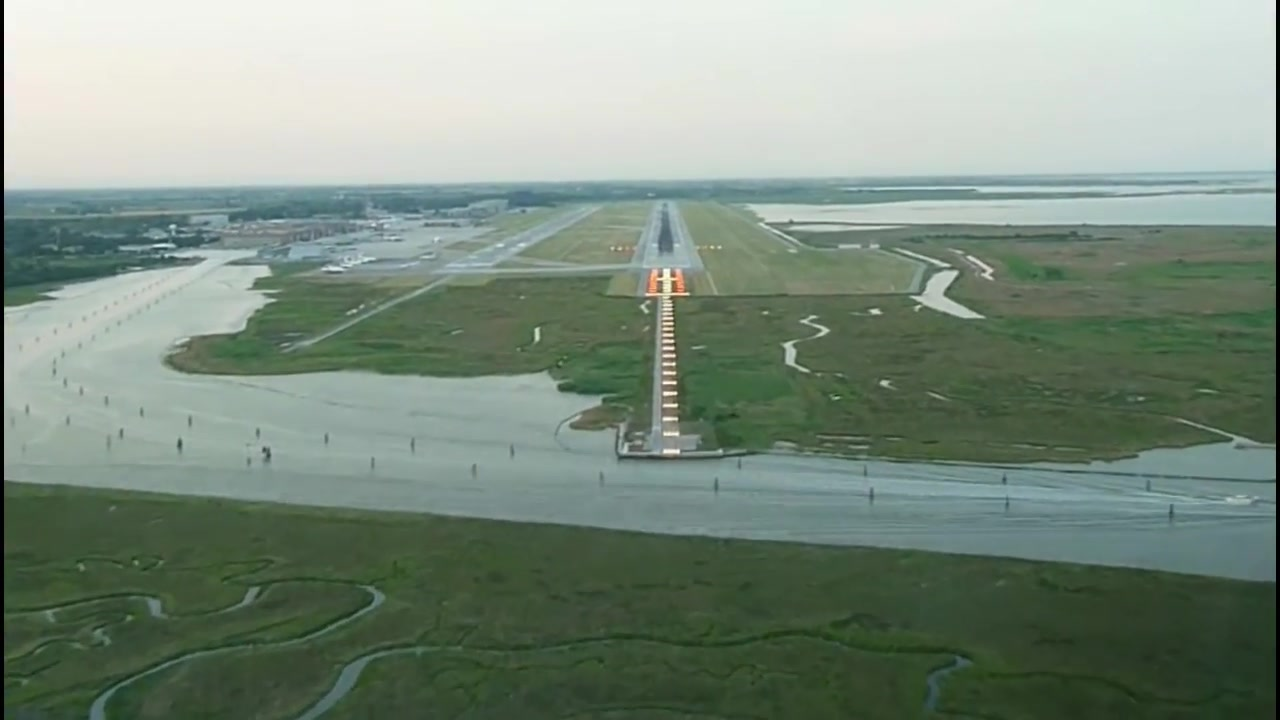runway: (448, 206, 597, 267), (638, 196, 692, 269)
